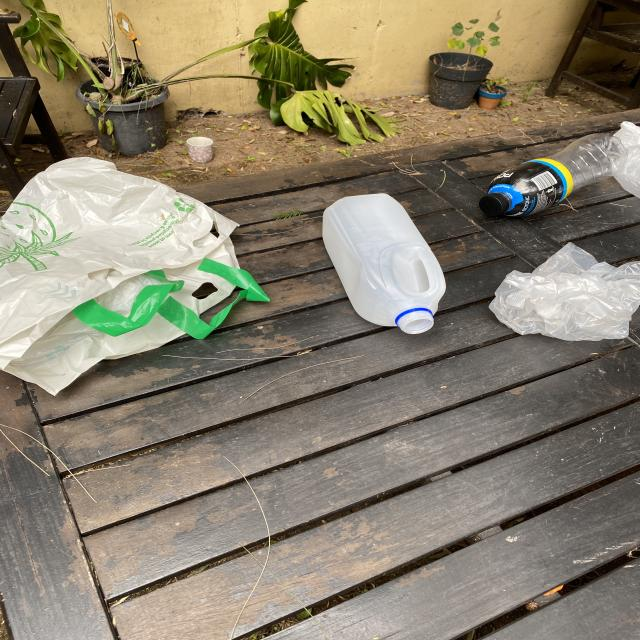bag: (0, 155, 270, 396), (488, 242, 640, 342)
bottle: (322, 194, 447, 335), (480, 133, 628, 219)
cup: (186, 136, 214, 163)
